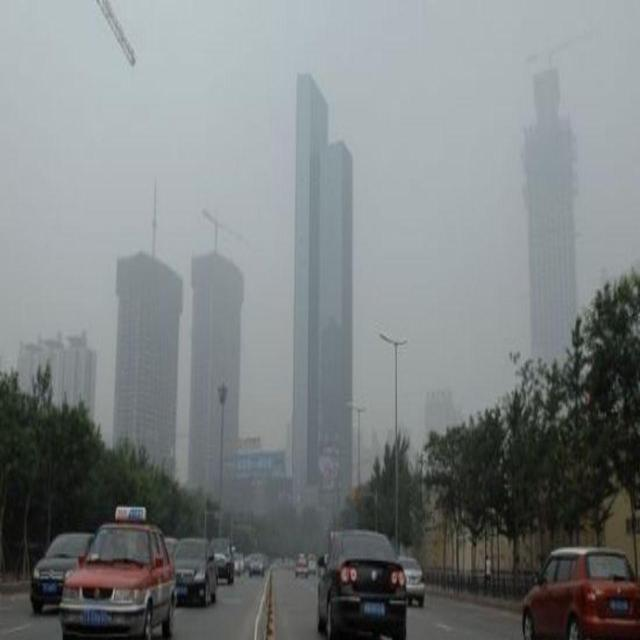Car: (60, 522, 176, 640), (522, 539, 640, 640), (317, 527, 408, 640), (32, 526, 94, 612), (173, 541, 218, 603), (214, 536, 235, 584), (250, 554, 265, 578), (296, 554, 308, 578)
